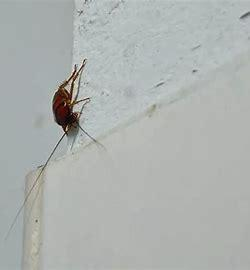cockroach: (36, 55, 102, 164)
